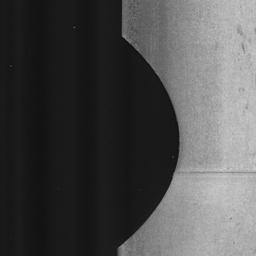Crescent gap: (121, 38, 180, 245)
